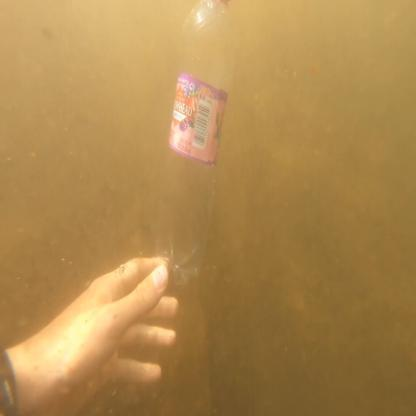Rác: (144, 0, 238, 293)
